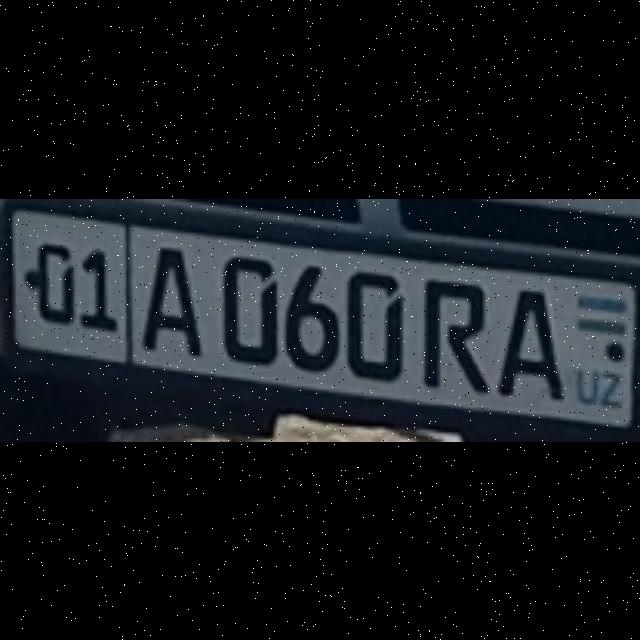0: (342, 268, 400, 374), (219, 250, 271, 362), (34, 238, 70, 318)
1: (76, 244, 114, 324)
6: (283, 262, 335, 368)
A: (139, 241, 197, 349), (499, 287, 557, 395)
R: (421, 275, 483, 389)
